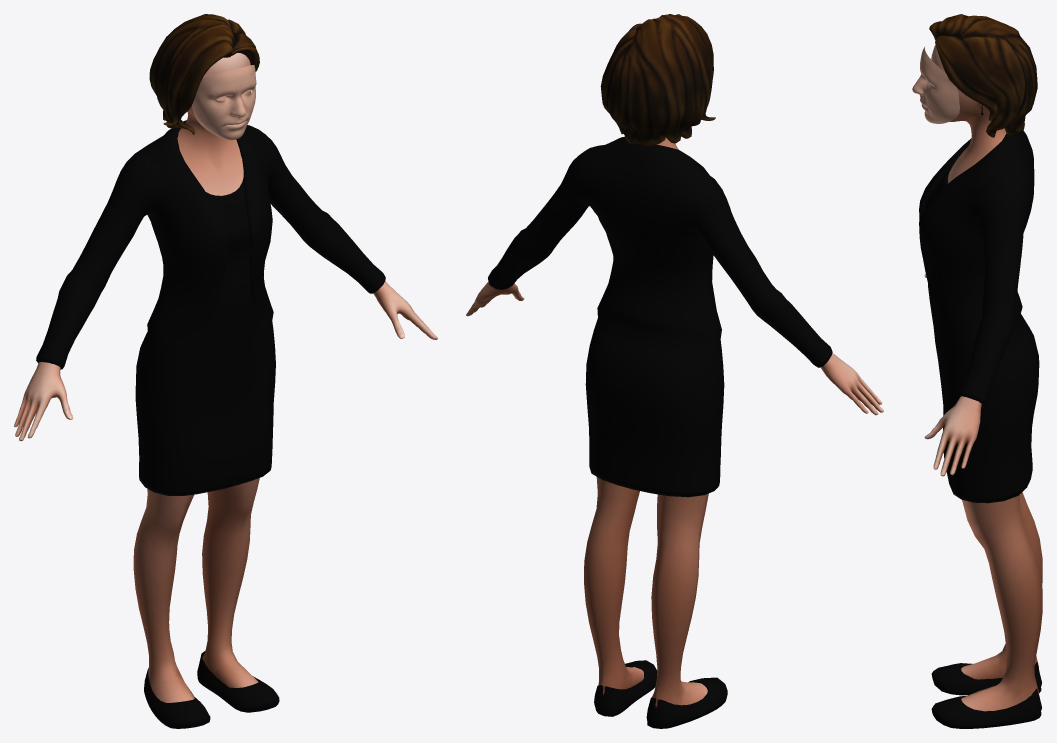
The model's file is bsTest_RIG_shaders02.glb.
The picture shows the model from 3 angles, left to right: view 1: azimuth 30°, elevation 25°; view 2: azimuth 150°, elevation 25°; view 3: azimuth 270°, elevation 25°; orthographic projection.
Visible parts, largest first — view 1: outfit_geo, body_geo, hair_geo, head_geo; view 2: outfit_geo, body_geo, hair_geo; view 3: outfit_geo, body_geo, hair_geo, head_geo.
Part boxes in pixels (box(x1,y1,x2,y2)): outfit_geo: box(36, 120, 385, 728); body_geo: box(14, 53, 437, 702); hair_geo: box(149, 14, 259, 134); head_geo: box(192, 65, 256, 140); outfit_geo: box(488, 136, 832, 728); body_geo: box(466, 137, 883, 707); hair_geo: box(600, 14, 715, 146); outfit_geo: box(919, 105, 1041, 728); body_geo: box(924, 45, 1042, 711); hair_geo: box(929, 14, 1037, 137); head_geo: box(912, 47, 959, 123).
Bounding box in the file's own units: 110 × 173 × 29.76.
Materials: 5 (2 with a texture image).
